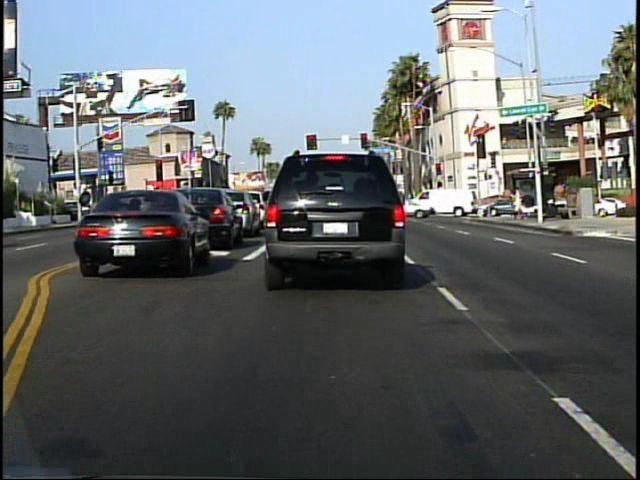person: (509, 183, 526, 225)
